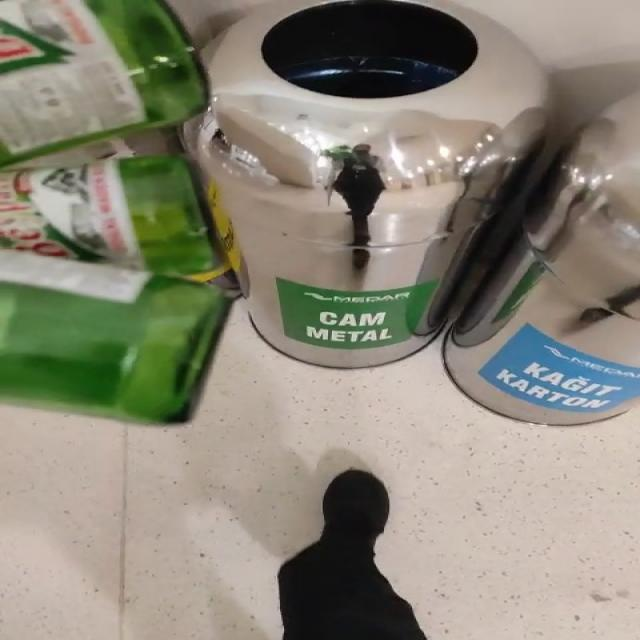bin: (187, 0, 549, 368)
glass: (0, 155, 231, 424), (0, 0, 207, 165)
